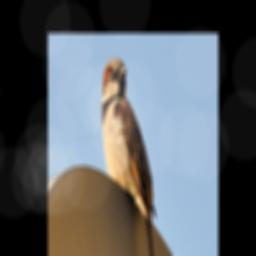Swallow: (100, 58, 156, 256)
